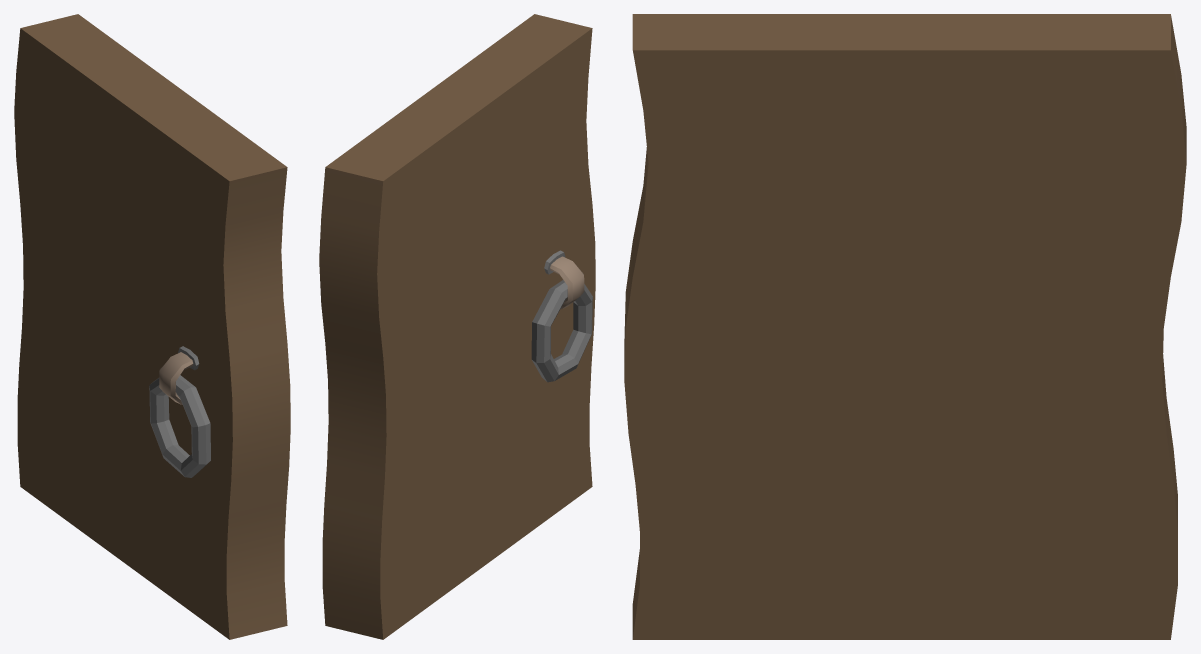
Rendered from door_05.fbx.
The picture shows the model from 3 angles, left to right: view 1: azimuth 30°, elevation 25°; view 2: azimuth 150°, elevation 25°; view 3: azimuth 270°, elevation 25°; orthographic projection. The views are drawn at different scales.
Parts seen in each view (by area): view 1: door_05, handle, hook; view 2: door_05, handle, hook; view 3: door_05.
Boxes of the visible parts, x1,y1,x2,y2 form: door_05: (14,14,290,639); handle: (149,375,210,477); hook: (159,346,199,404); door_05: (319,14,595,639); handle: (531,280,592,382); hook: (544,250,584,309); door_05: (624,14,1186,639).
Bounding box in the file's own units: 44.59 × 231 × 199.
